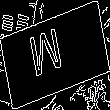M_S: (36, 25, 74, 85)
